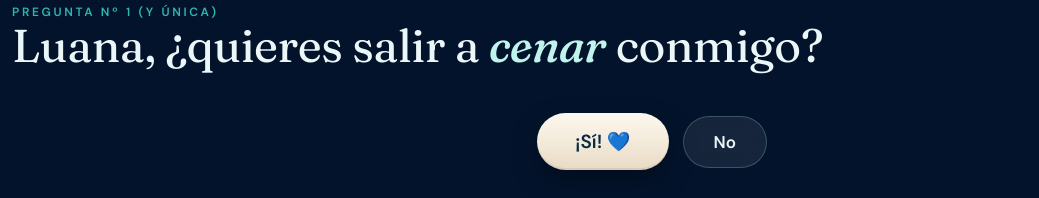
Scenario: QuestionStep runaway "No" button › changes its text and grows the "Sí" button on every escape
Press the mouse on the button "No" at [725, 142], box [682, 116, 767, 168]
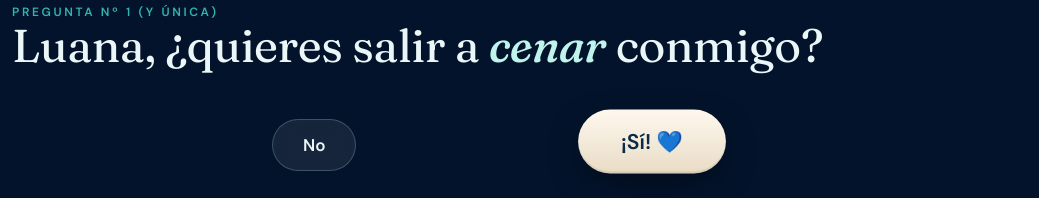
Press the mouse on the button "No" at [314, 145], box [272, 119, 356, 171]
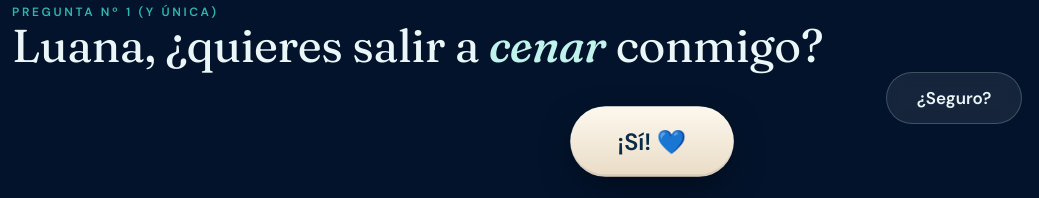
Check: the button "¿Seguro?" is shown, box [886, 72, 1022, 124]
